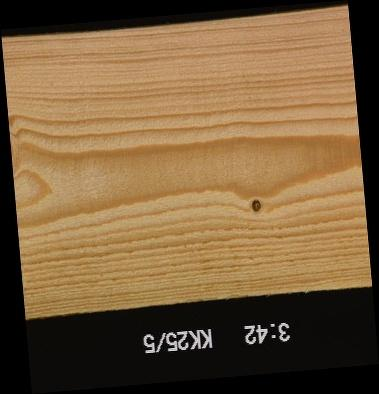dry_knot: (249, 198, 263, 214)
